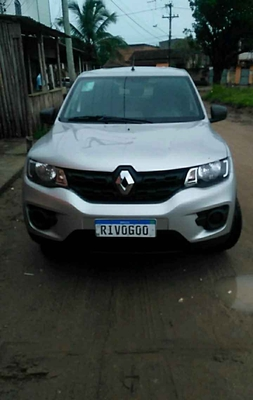Frontal Veiculo: (23, 70, 239, 254)
